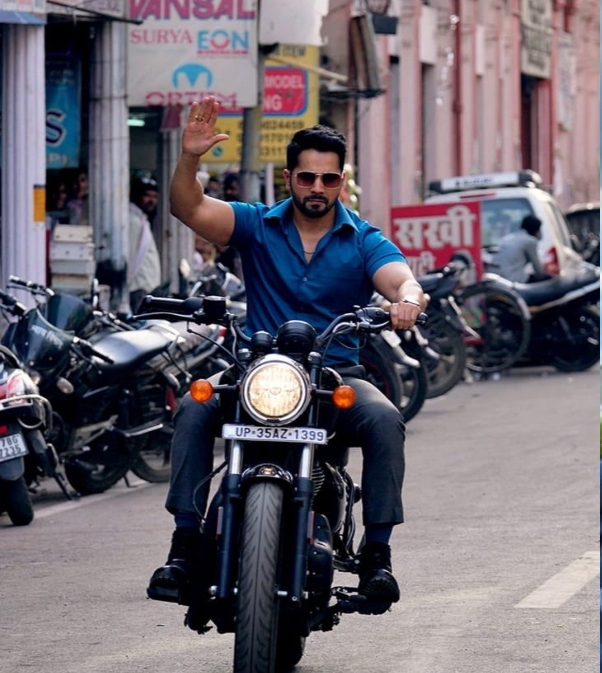motor: (122, 282, 427, 670)
no helmet: (285, 126, 342, 215)
number: (219, 421, 328, 446)
